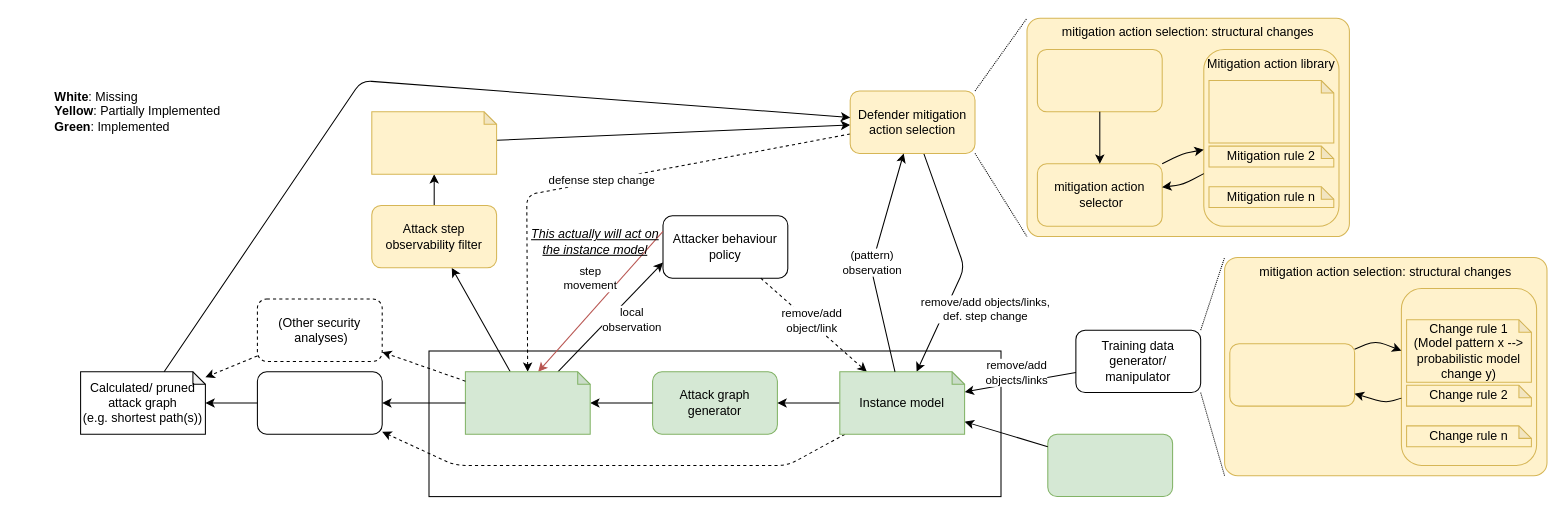
Image size: 1565x515. Some labels were removed from this diagram. Each missing label, with the box of its shape:
Attack observation (on attack steps): (371, 111, 497, 174)
Change action library: (1400, 288, 1537, 465)
Change action selector (fuzzer): (1229, 343, 1355, 406)
Full attack graph: (464, 371, 590, 434)
Global TTC value calculator (e.g. securiCAD): (256, 371, 382, 434)
Mitigation rule 1 (Bad pattern x --> good pattern y): (1208, 80, 1334, 143)
Real world data importer: (1047, 433, 1173, 497)
Weakest spot identifier: (1036, 48, 1162, 112)
